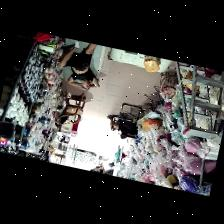person: (60, 40, 99, 88), (108, 114, 118, 129)
